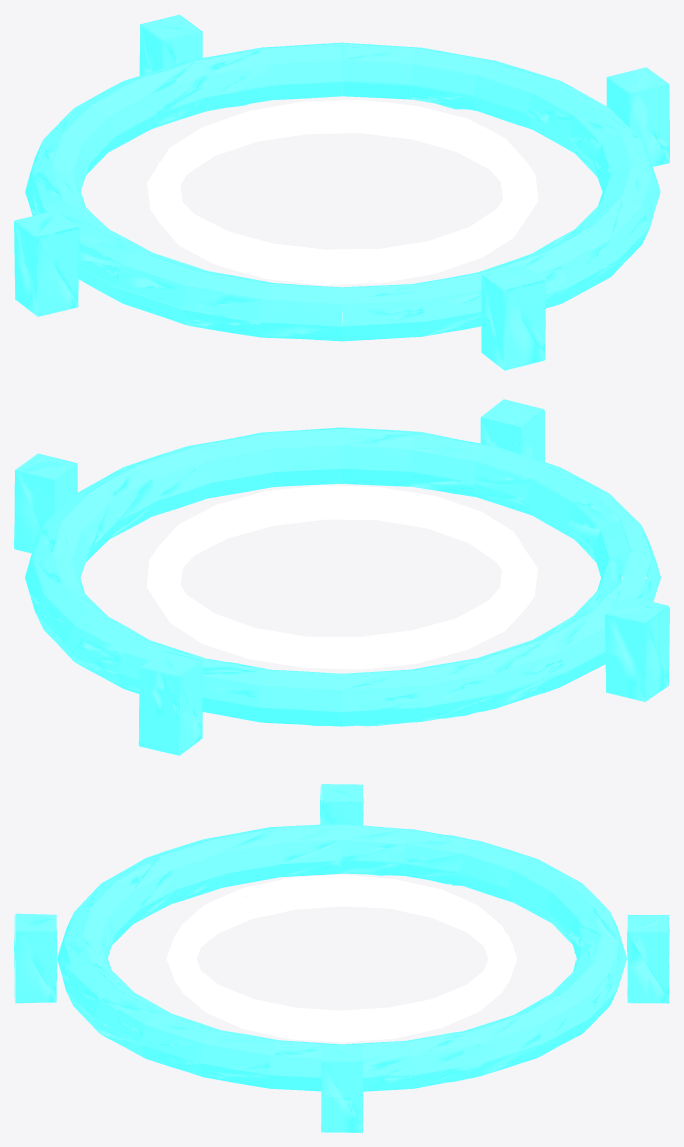
The model's file is transfer_ring.glb.
3 views of the same model, one above another, from view 1: azimuth 30°, elevation 25°; view 2: azimuth 150°, elevation 25°; view 3: azimuth 270°, elevation 25° (orthographic). The views are drawn at different scales.
Parts seen in each view (by area): view 1: MetroTransferRing; view 2: MetroTransferRing; view 3: MetroTransferRing.
Boxes of the visible parts, x1=… form: MetroTransferRing: x1=14, y1=14, x2=669, y2=370; MetroTransferRing: x1=14, y1=399, x2=669, y2=755; MetroTransferRing: x1=14, y1=784, x2=669, y2=1132.
Bounding box in the file's own units: 2.53 × 0.3095 × 2.53.
